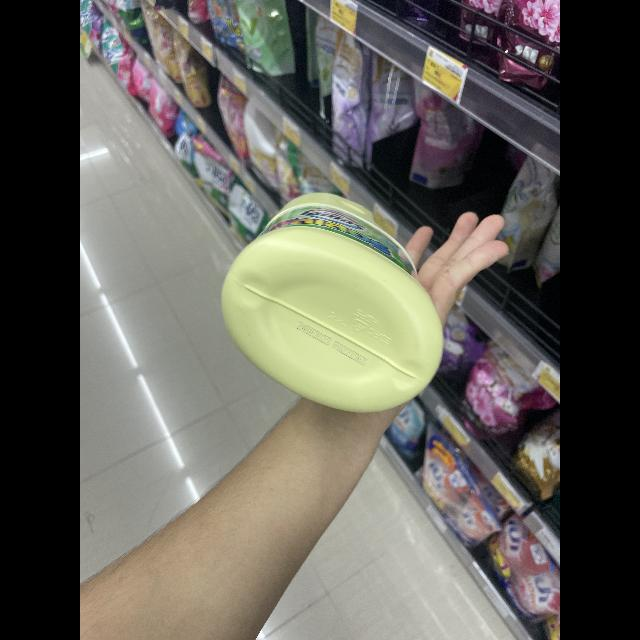chemical_plastic_bottle: (214, 178, 452, 426)
